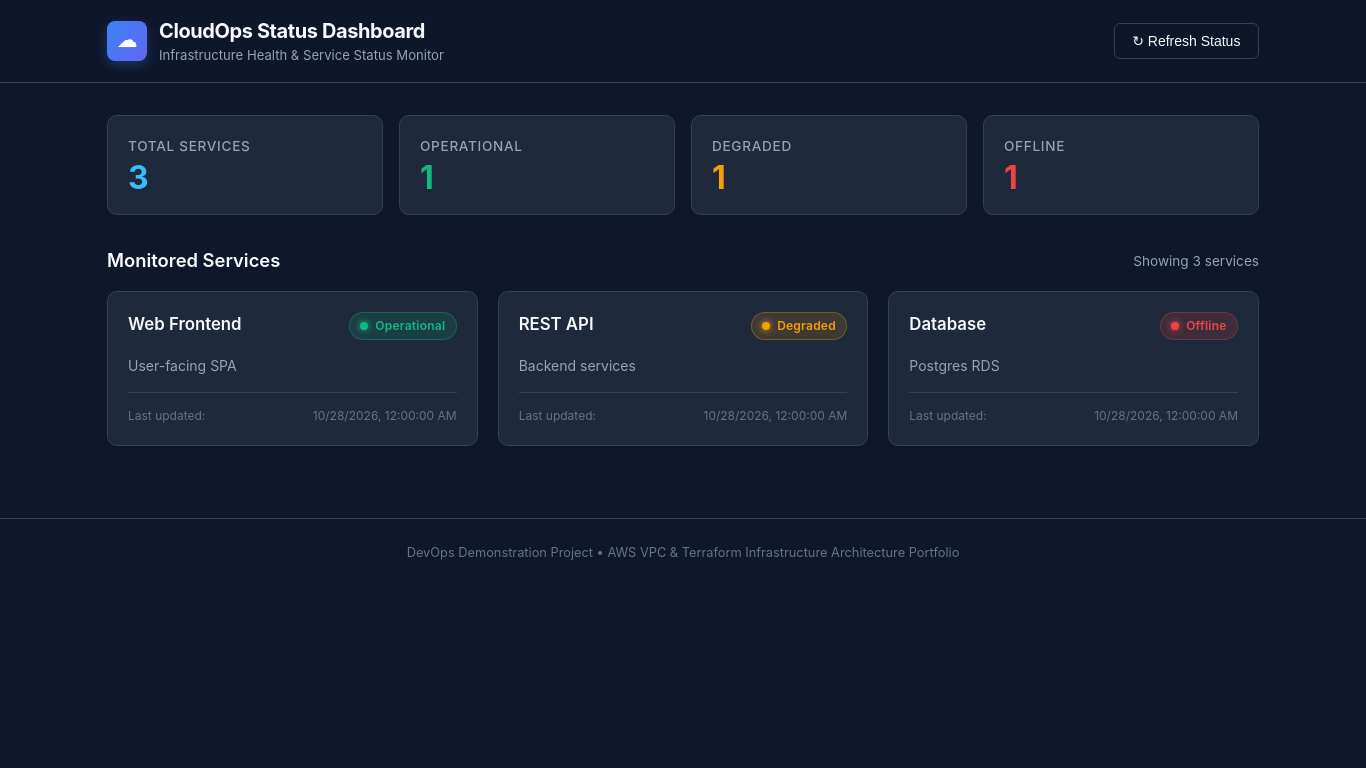
Test: Dashboard Component › opens service detail modal when a service card is clicked
The width and height of the screenshot is (1366, 768).
Check: the heading "Web Frontend" is shown, box [128,312,242,337]
Step 1. Click the button with aria-label "View details for Web Frontend" → (185,324), box [107,291,478,446]
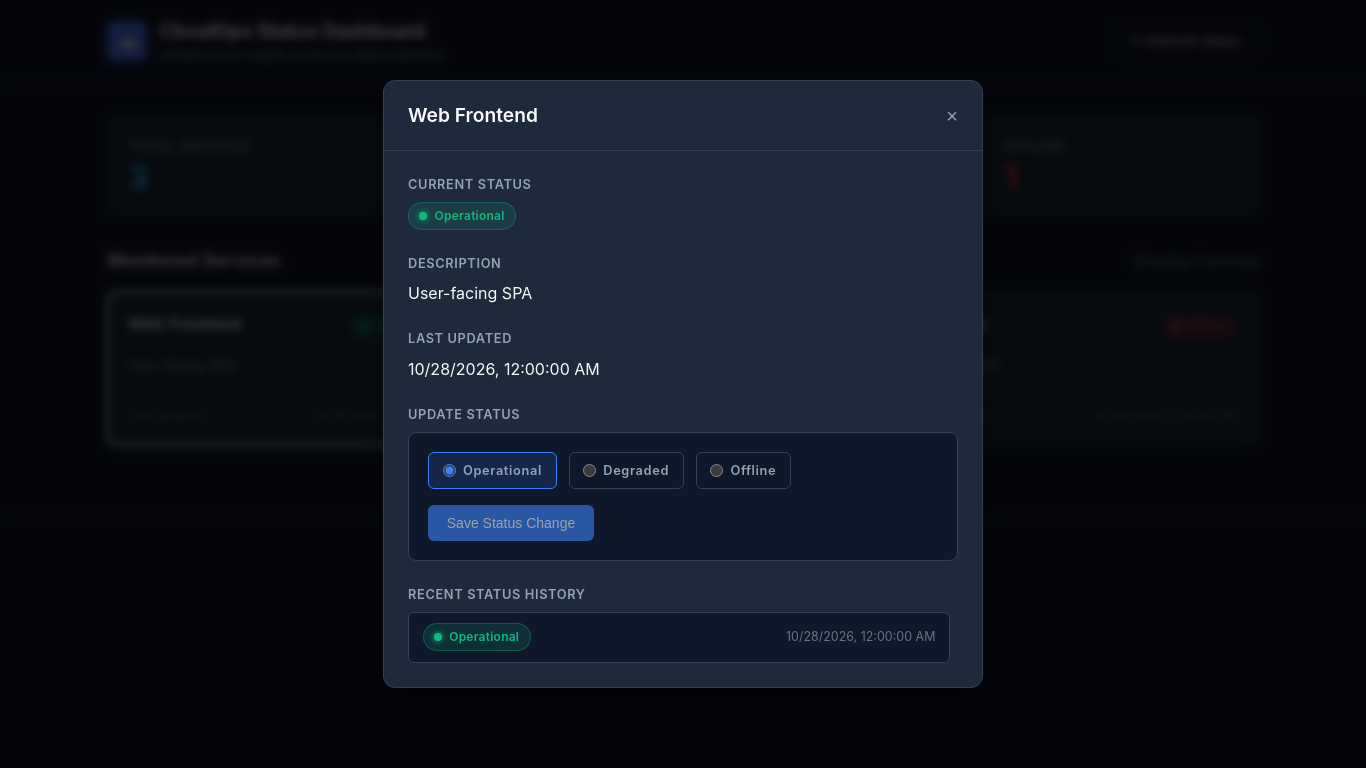
Check: the dialog is shown
Check: the text "Recent Status History" is shown, box [408,587,586,602]
Check: the button "Save Status Change" is shown, box [428,505,594,541]
